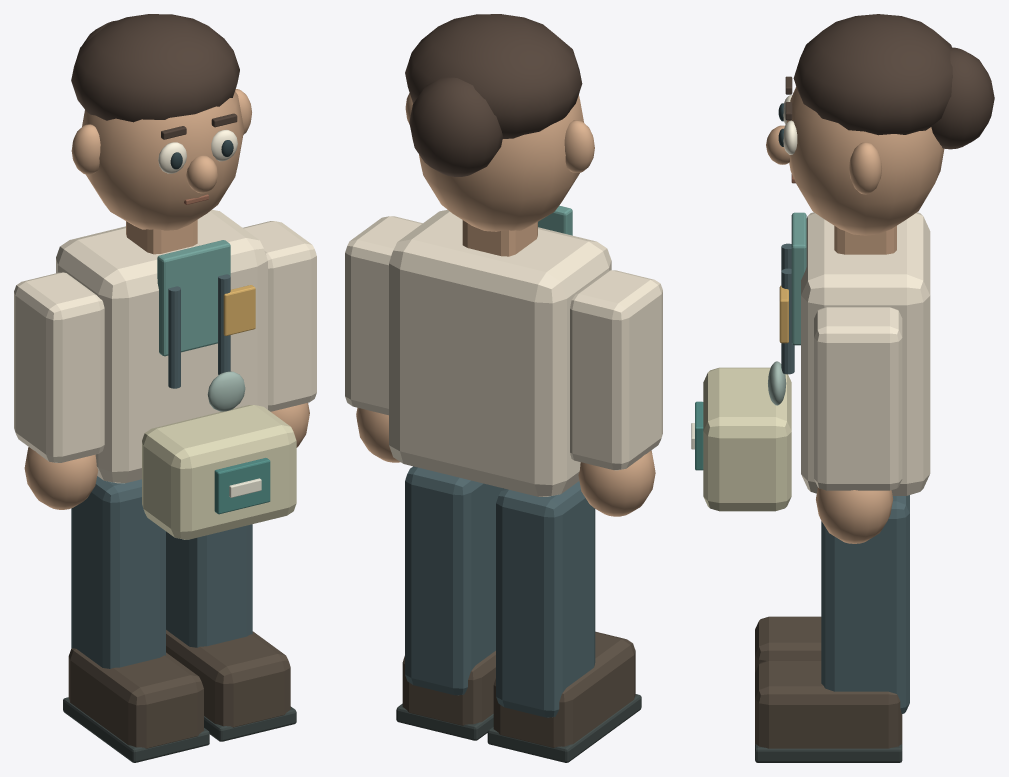
The model's file is medic.glb.
3 views of the same model, side by side, from view 1: azimuth 30°, elevation 25°; view 2: azimuth 150°, elevation 25°; view 3: azimuth 270°, elevation 25° (orthographic). The views are drawn at different scales.
Parts seen in each view (by area): view 1: Jacket, Sleeve, Trouser leg, Aid kit case, Hair cap, Face, Boot, Trouser leg.001, Sleeve.001, Boot.001, Shirt, Hand (+13 smaller); view 2: Jacket, Trouser leg, Trouser leg.001, Sleeve, Hair cap, Face, Sleeve.001, Boot, Hair bun, Boot.001, Hand, Sole (+5 smaller); view 3: Jacket, Sleeve.001, Hair cap, Trouser leg.001, Face, Aid kit case, Boot.001, Hair bun, Hand.001, Boot, Sole.001, Shirt (+7 smaller).
Part boxes in pixels (x1,y1,x2,y2): Jacket: (56,209,267,483); Sleeve: (14,272,104,462); Trouser leg: (71,476,165,668); Aid kit case: (142,405,296,539); Hair cap: (71,14,239,122); Face: (82,91,244,230); Boot: (68,648,203,748); Trouser leg.001: (166,524,252,647); Sleeve.001: (243,221,316,411); Boot.001: (166,630,290,727); Shirt: (157,240,230,356); Hand: (24,447,98,509); Jacket: (389,209,611,496); Trouser leg: (496,481,595,717); Trouser leg.001: (405,466,503,695); Sleeve: (570,270,662,470); Hair cap: (405,14,582,138); Face: (419,95,583,231); Sleeve.001: (345,216,422,415); Boot: (493,631,635,747); Hair bun: (409,77,502,176); Boot.001: (402,651,495,725); Hand: (578,450,655,516); Sole: (487,694,641,762); Jacket: (801,212,930,495); Sleeve.001: (814,307,902,490); Hair cap: (793,14,952,135); Trouser leg.001: (821,495,909,713); Face: (786,87,944,235); Aid kit case: (703,367,791,511); Boot.001: (755,660,902,748); Hair bun: (931,47,994,149); Hand.001: (816,487,893,543); Boot: (755,616,821,672); Sole.001: (755,744,902,762); Shirt: (791,212,806,345).
Size of the model in its own units: 0.89 by 2.09 by 0.8225.
